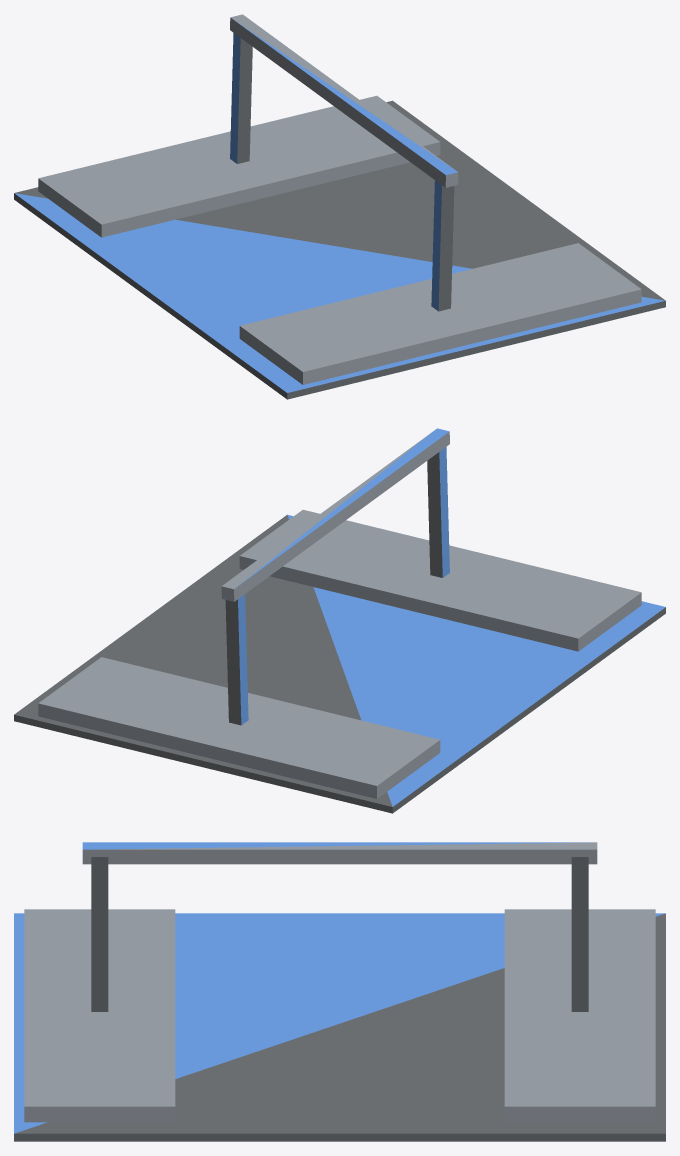
Rendered from veyran_shipyard_damaged.glb.
The picture shows the model from 3 angles, top to bottom: view 1: azimuth 30°, elevation 25°; view 2: azimuth 150°, elevation 25°; view 3: azimuth 270°, elevation 25°; orthographic projection. The views are drawn at different scales.
Visible parts, largest first — view 1: hull, crane; view 2: hull, crane; view 3: hull, crane.
Boxes of the visible parts, box(x1,y1,x2,y2) form: hull: box(14, 95, 665, 399); crane: box(230, 14, 458, 311); hull: box(14, 509, 665, 813); crane: box(221, 428, 449, 725); hull: box(14, 909, 665, 1141); crane: box(82, 842, 597, 1011).
Size of the model in its own units: 15.2 by 6.04 by 19.
